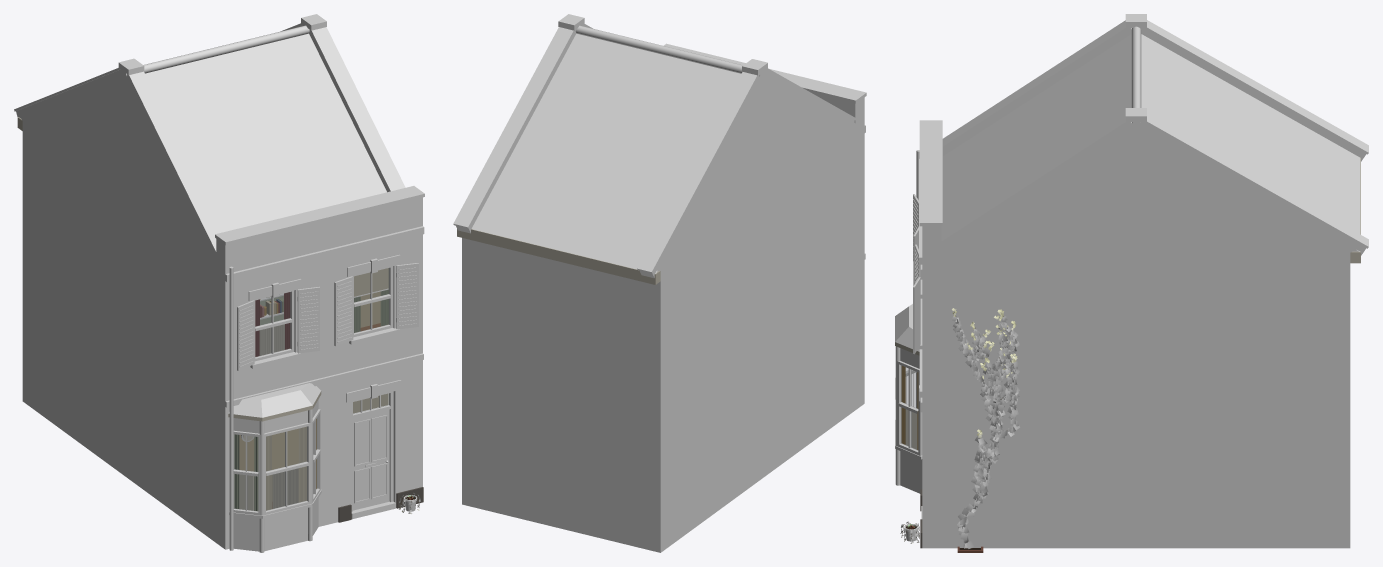
File: Opposite_Opposite2_2.glb
The picture shows the model from 3 angles, left to right: view 1: azimuth 30°, elevation 25°; view 2: azimuth 150°, elevation 25°; view 3: azimuth 270°, elevation 25°; orthographic projection. The views are drawn at different scales.
Parts seen in each view (by area): view 1: Opposite_Opposite2_2; view 2: Opposite_Opposite2_2; view 3: Opposite_Opposite2_2.
Part boxes in pixels (left/top/right/bottom): Opposite_Opposite2_2: left=14, top=14, right=424, bottom=552; Opposite_Opposite2_2: left=453, top=14, right=866, bottom=552; Opposite_Opposite2_2: left=895, top=14, right=1368, bottom=552.
Size of what is drawn, in the model's own units: 4.73 by 8.92 by 8.86.
